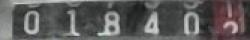digits: (214, 2, 242, 38), (96, 10, 120, 36), (61, 8, 79, 36), (142, 10, 159, 34), (22, 10, 39, 33), (183, 11, 199, 35)
